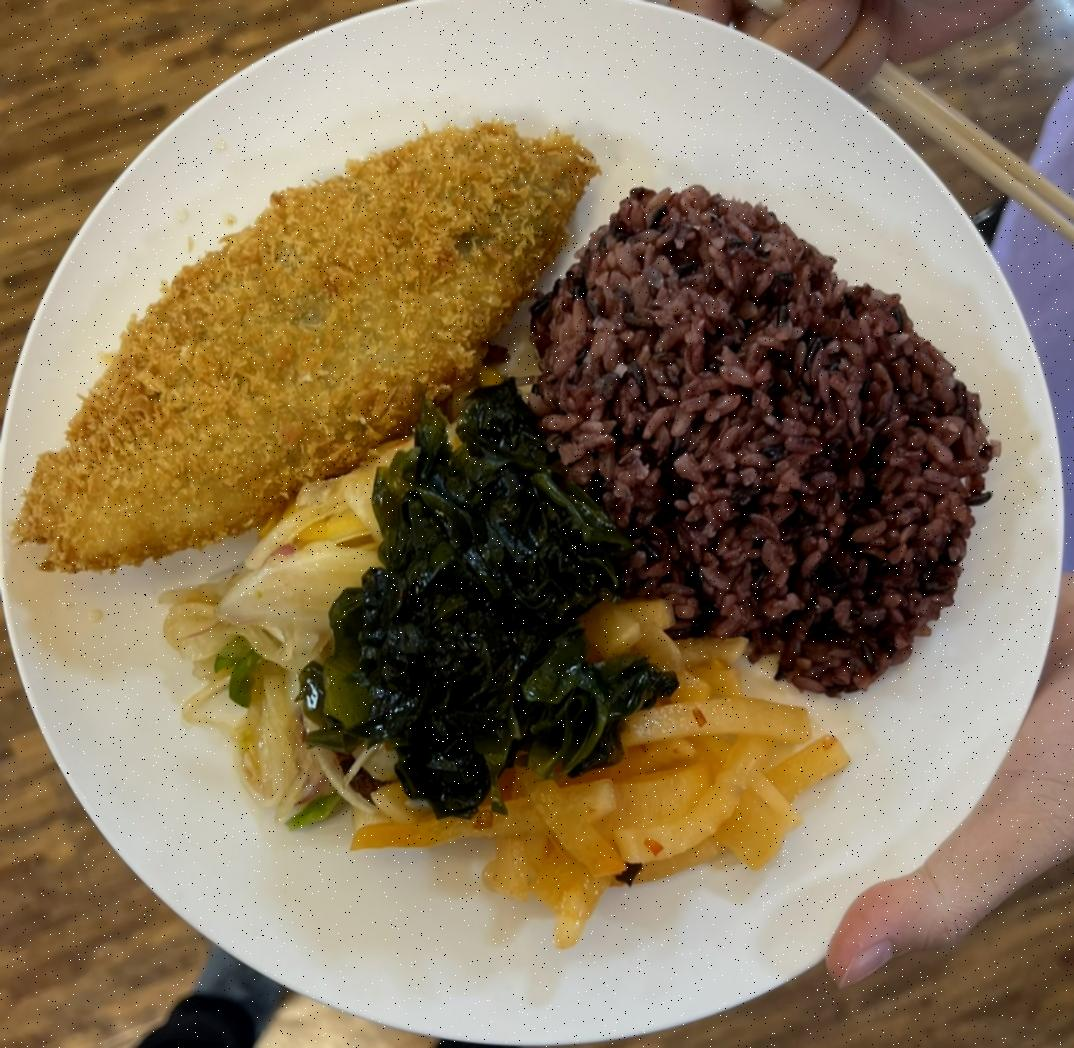fried cod steak: (15, 113, 598, 577)
plate: (6, 0, 1074, 1048)
purple rice: (536, 170, 996, 696)
side dish: (356, 601, 848, 925), (314, 400, 646, 812), (169, 418, 453, 815)
